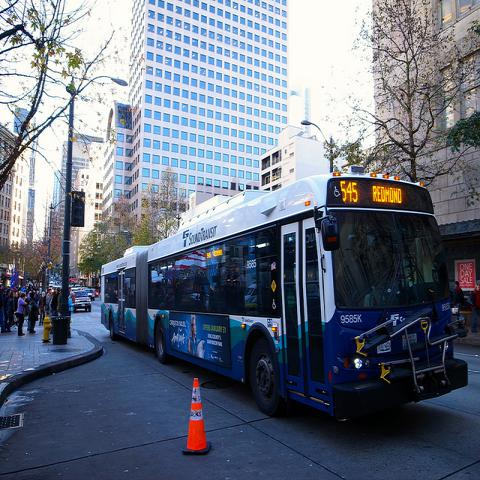bus: (98, 174, 470, 424)
car: (73, 290, 91, 313), (86, 290, 95, 300), (92, 289, 99, 297), (52, 286, 61, 290)
